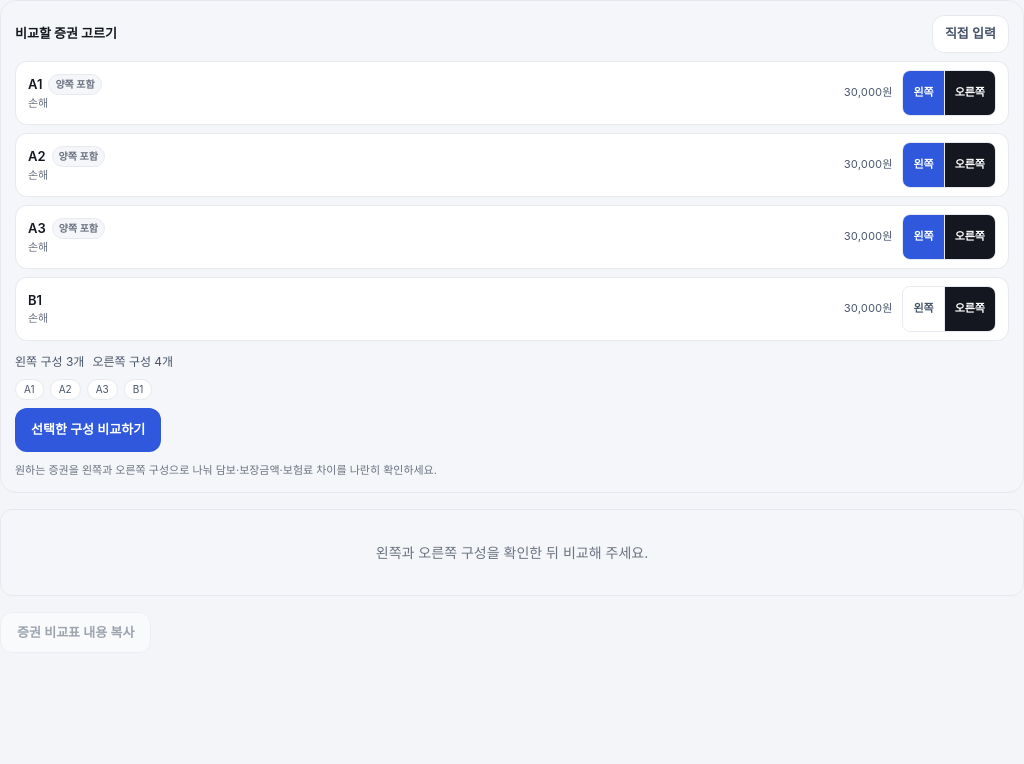
it: multi-policy overlap selection › announces stale selection guidance through a polite status region
Expected: the button with aria-label "A1 왼쪽에서 제외" is shown, [903,70,944,114]
What coordinates should you click on to do the following:
click the button "선택한 구성 비교하기"
I would click on:
 (88, 430)
Its box is [15,408,161,452].
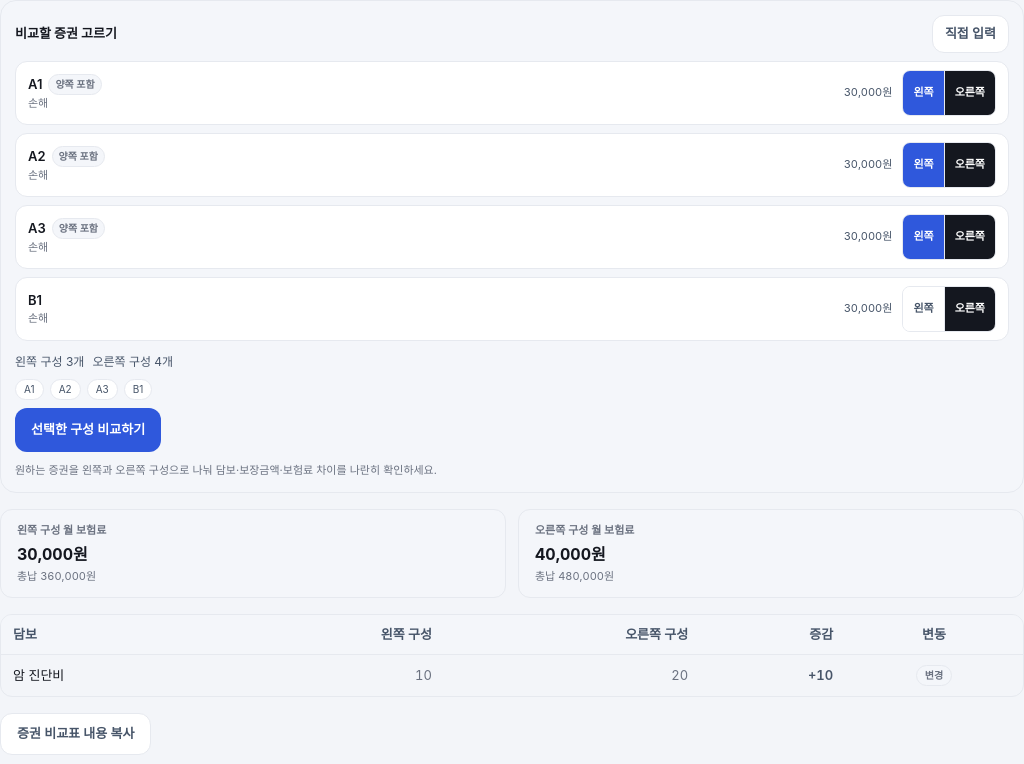
Expected: the text "암 진단비" is shown, [1,654,223,696]
What coordinates should you click on to do the following:
click the button with aria-label "A3 오른쪽에서 제외"
I would click on:
 (969, 236)
Its box is [944,214,995,258].
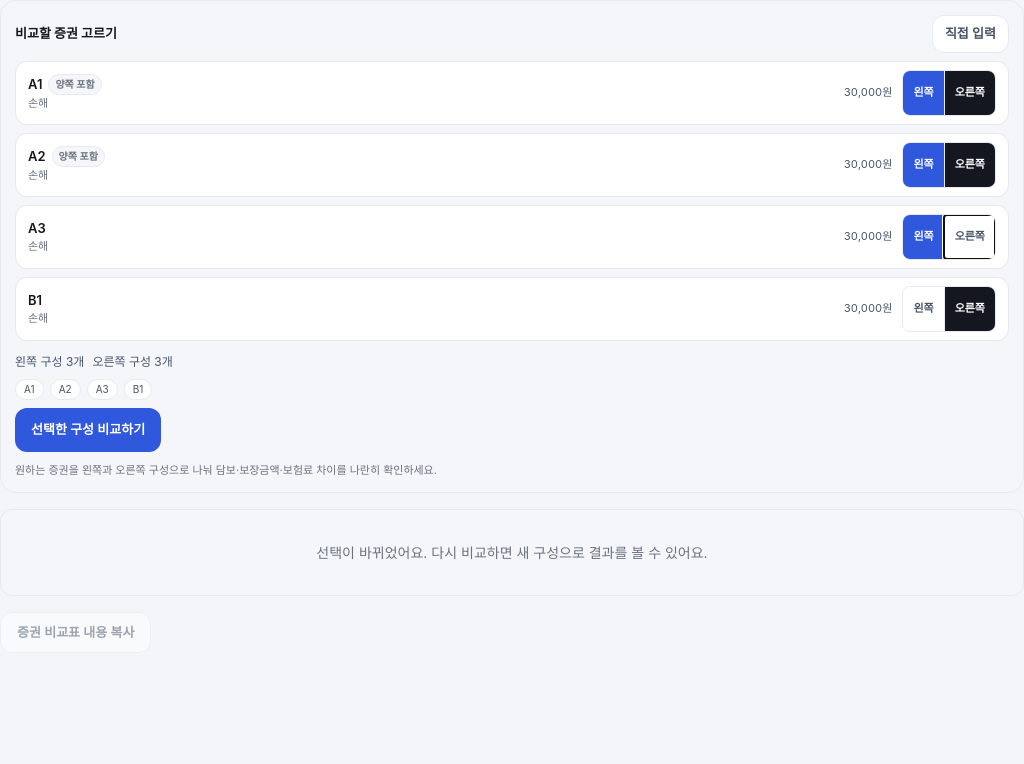
Expected: the message "선택이 바뀌었어요. 다시 비교하면 새 구성으로 결과를 볼 수 있어요." is shown, [0,508,1023,596]
